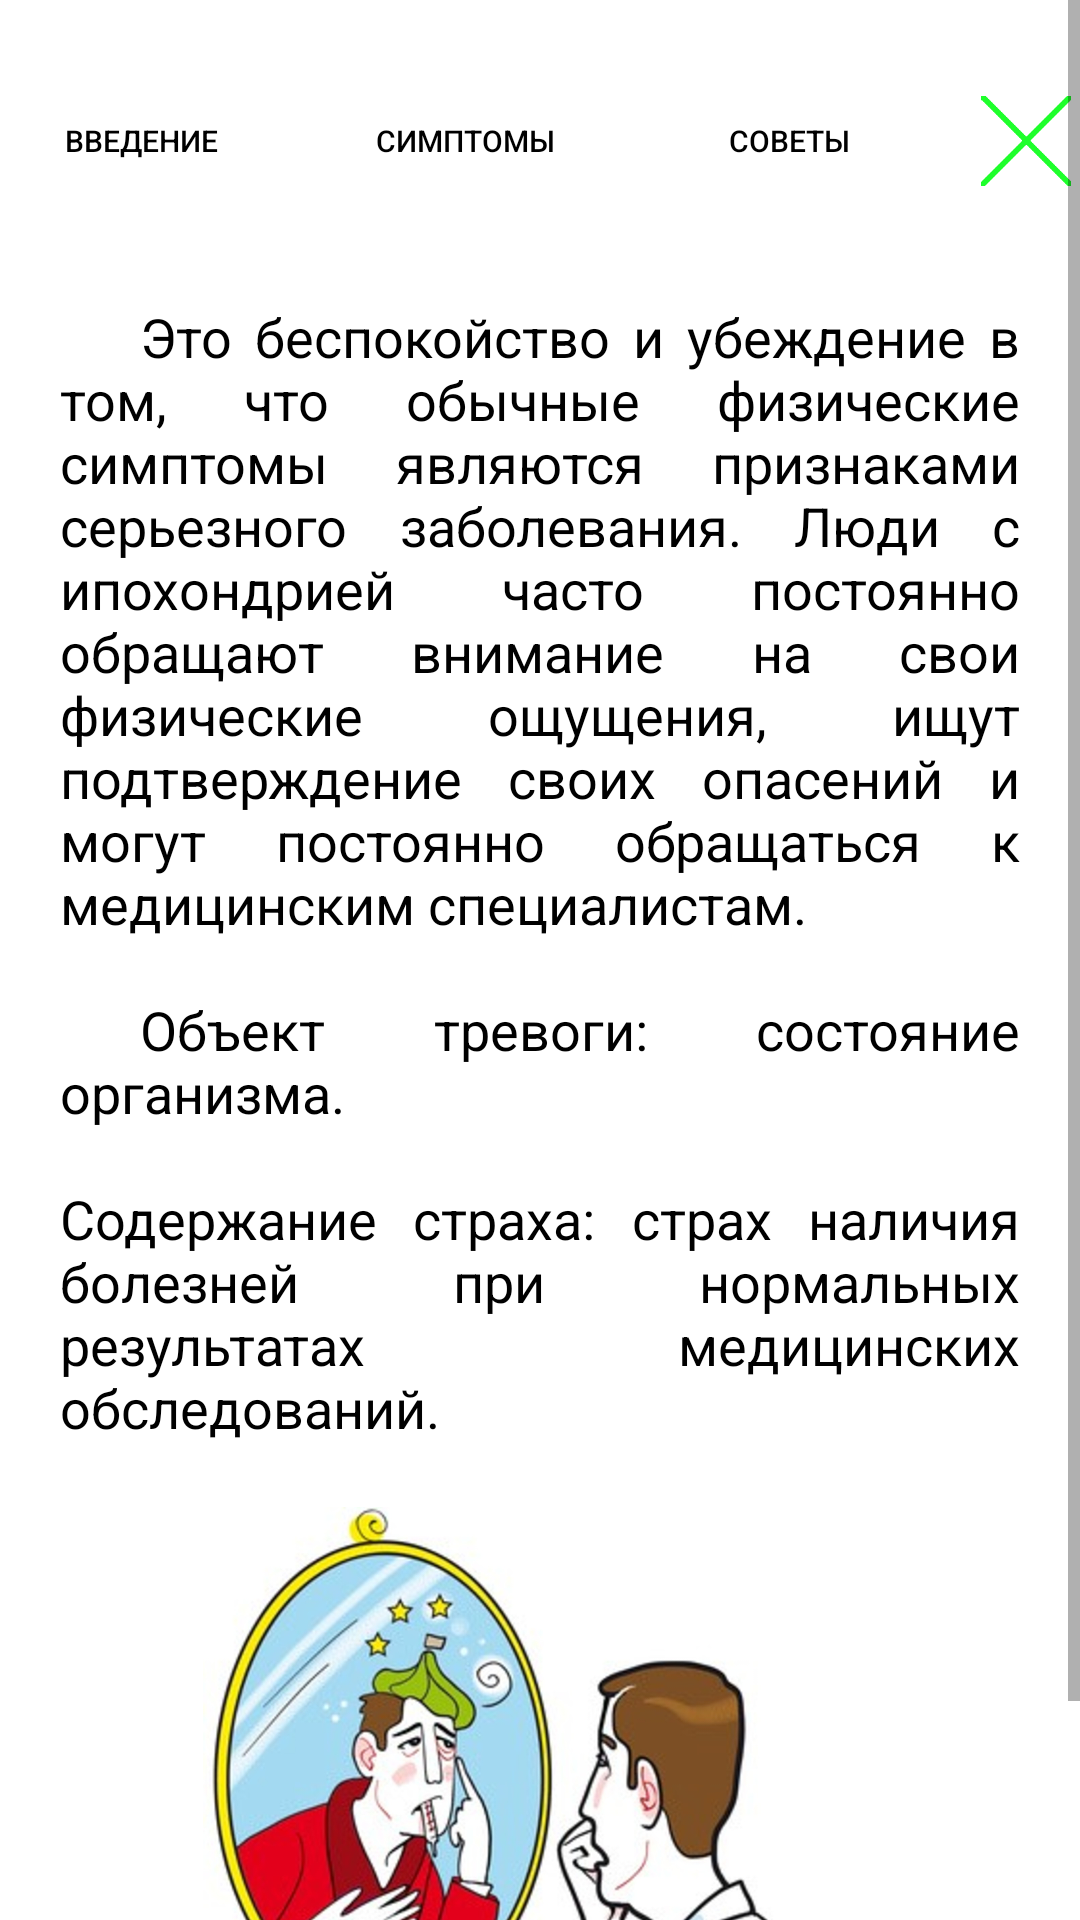

Named icons in this screenshot (1080px x 1920px) and their bounding boxes, (x1, y1, x2, y2):
close: (981, 96, 1071, 186)
